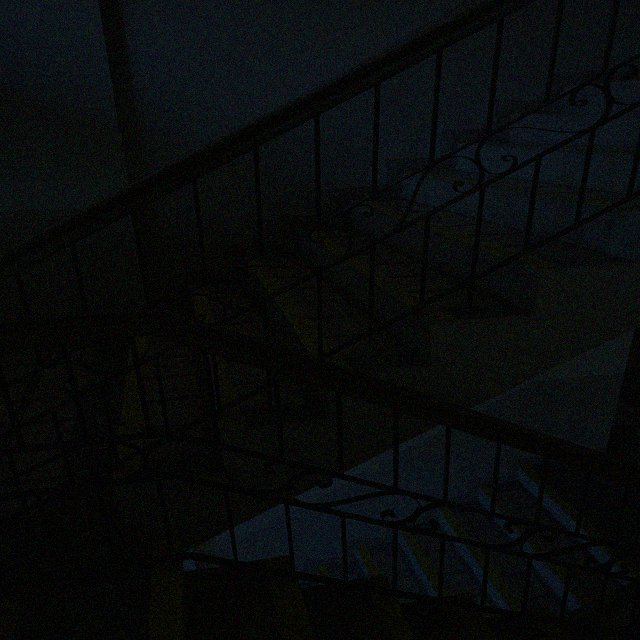stair: (0, 55, 639, 639), (267, 201, 639, 405), (185, 568, 541, 639), (562, 199, 639, 261), (452, 610, 587, 638), (480, 142, 552, 173)
